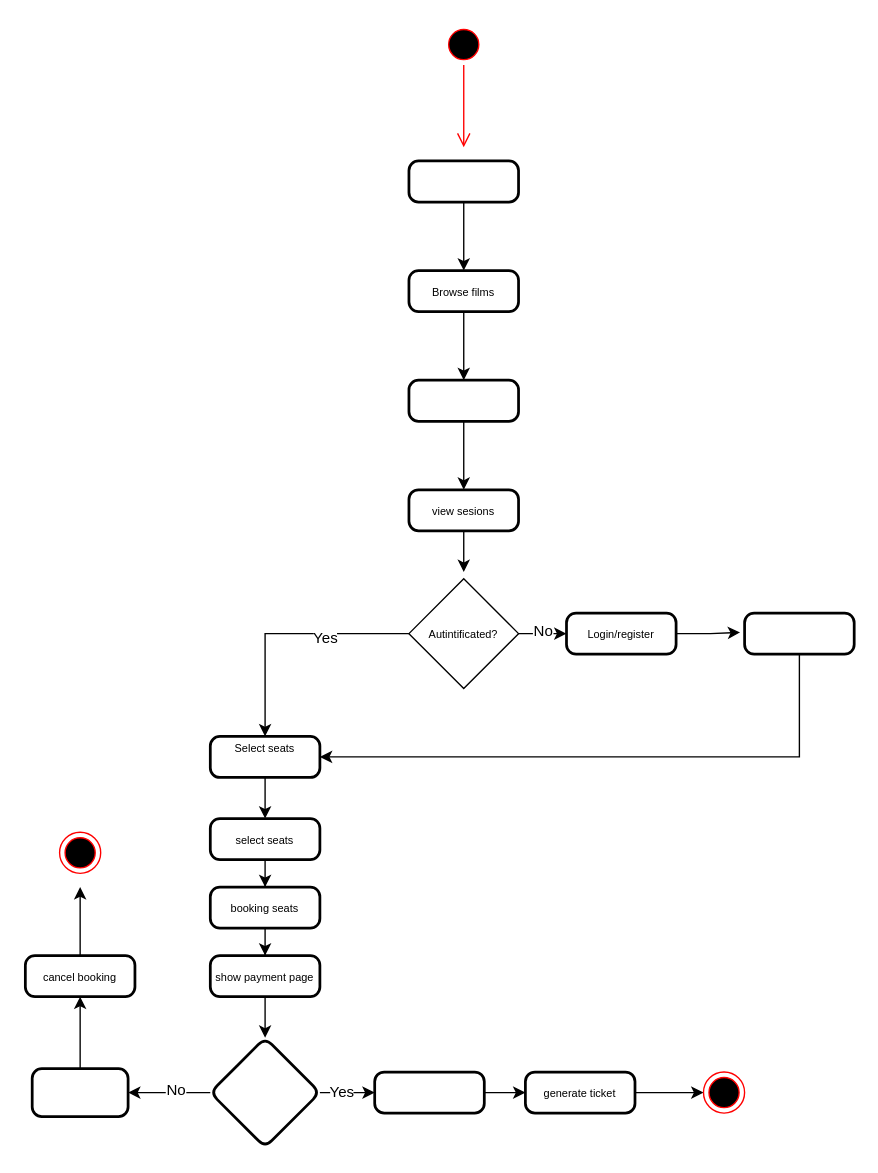
Image size: 878x1173. Some labels were removed from this diagram. The shapes that lost their labels are listed below. From the top down, each one's centre as x and y in pixels, then its label:
(x=463, y=181): open website
(x=463, y=400): Select film
(x=799, y=633): Autintificate
(x=79, y=1092): Show error
(x=264, y=1092): Payment succesful?
(x=429, y=1092): confirm booking
